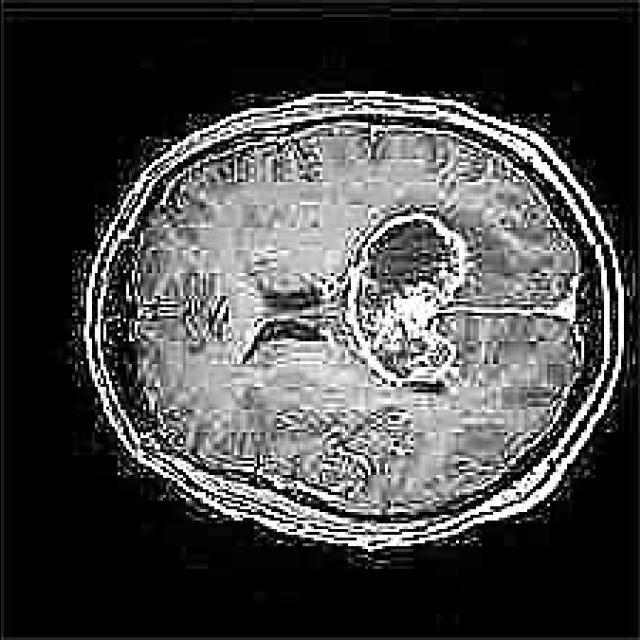tumor: (319, 208, 469, 390)
